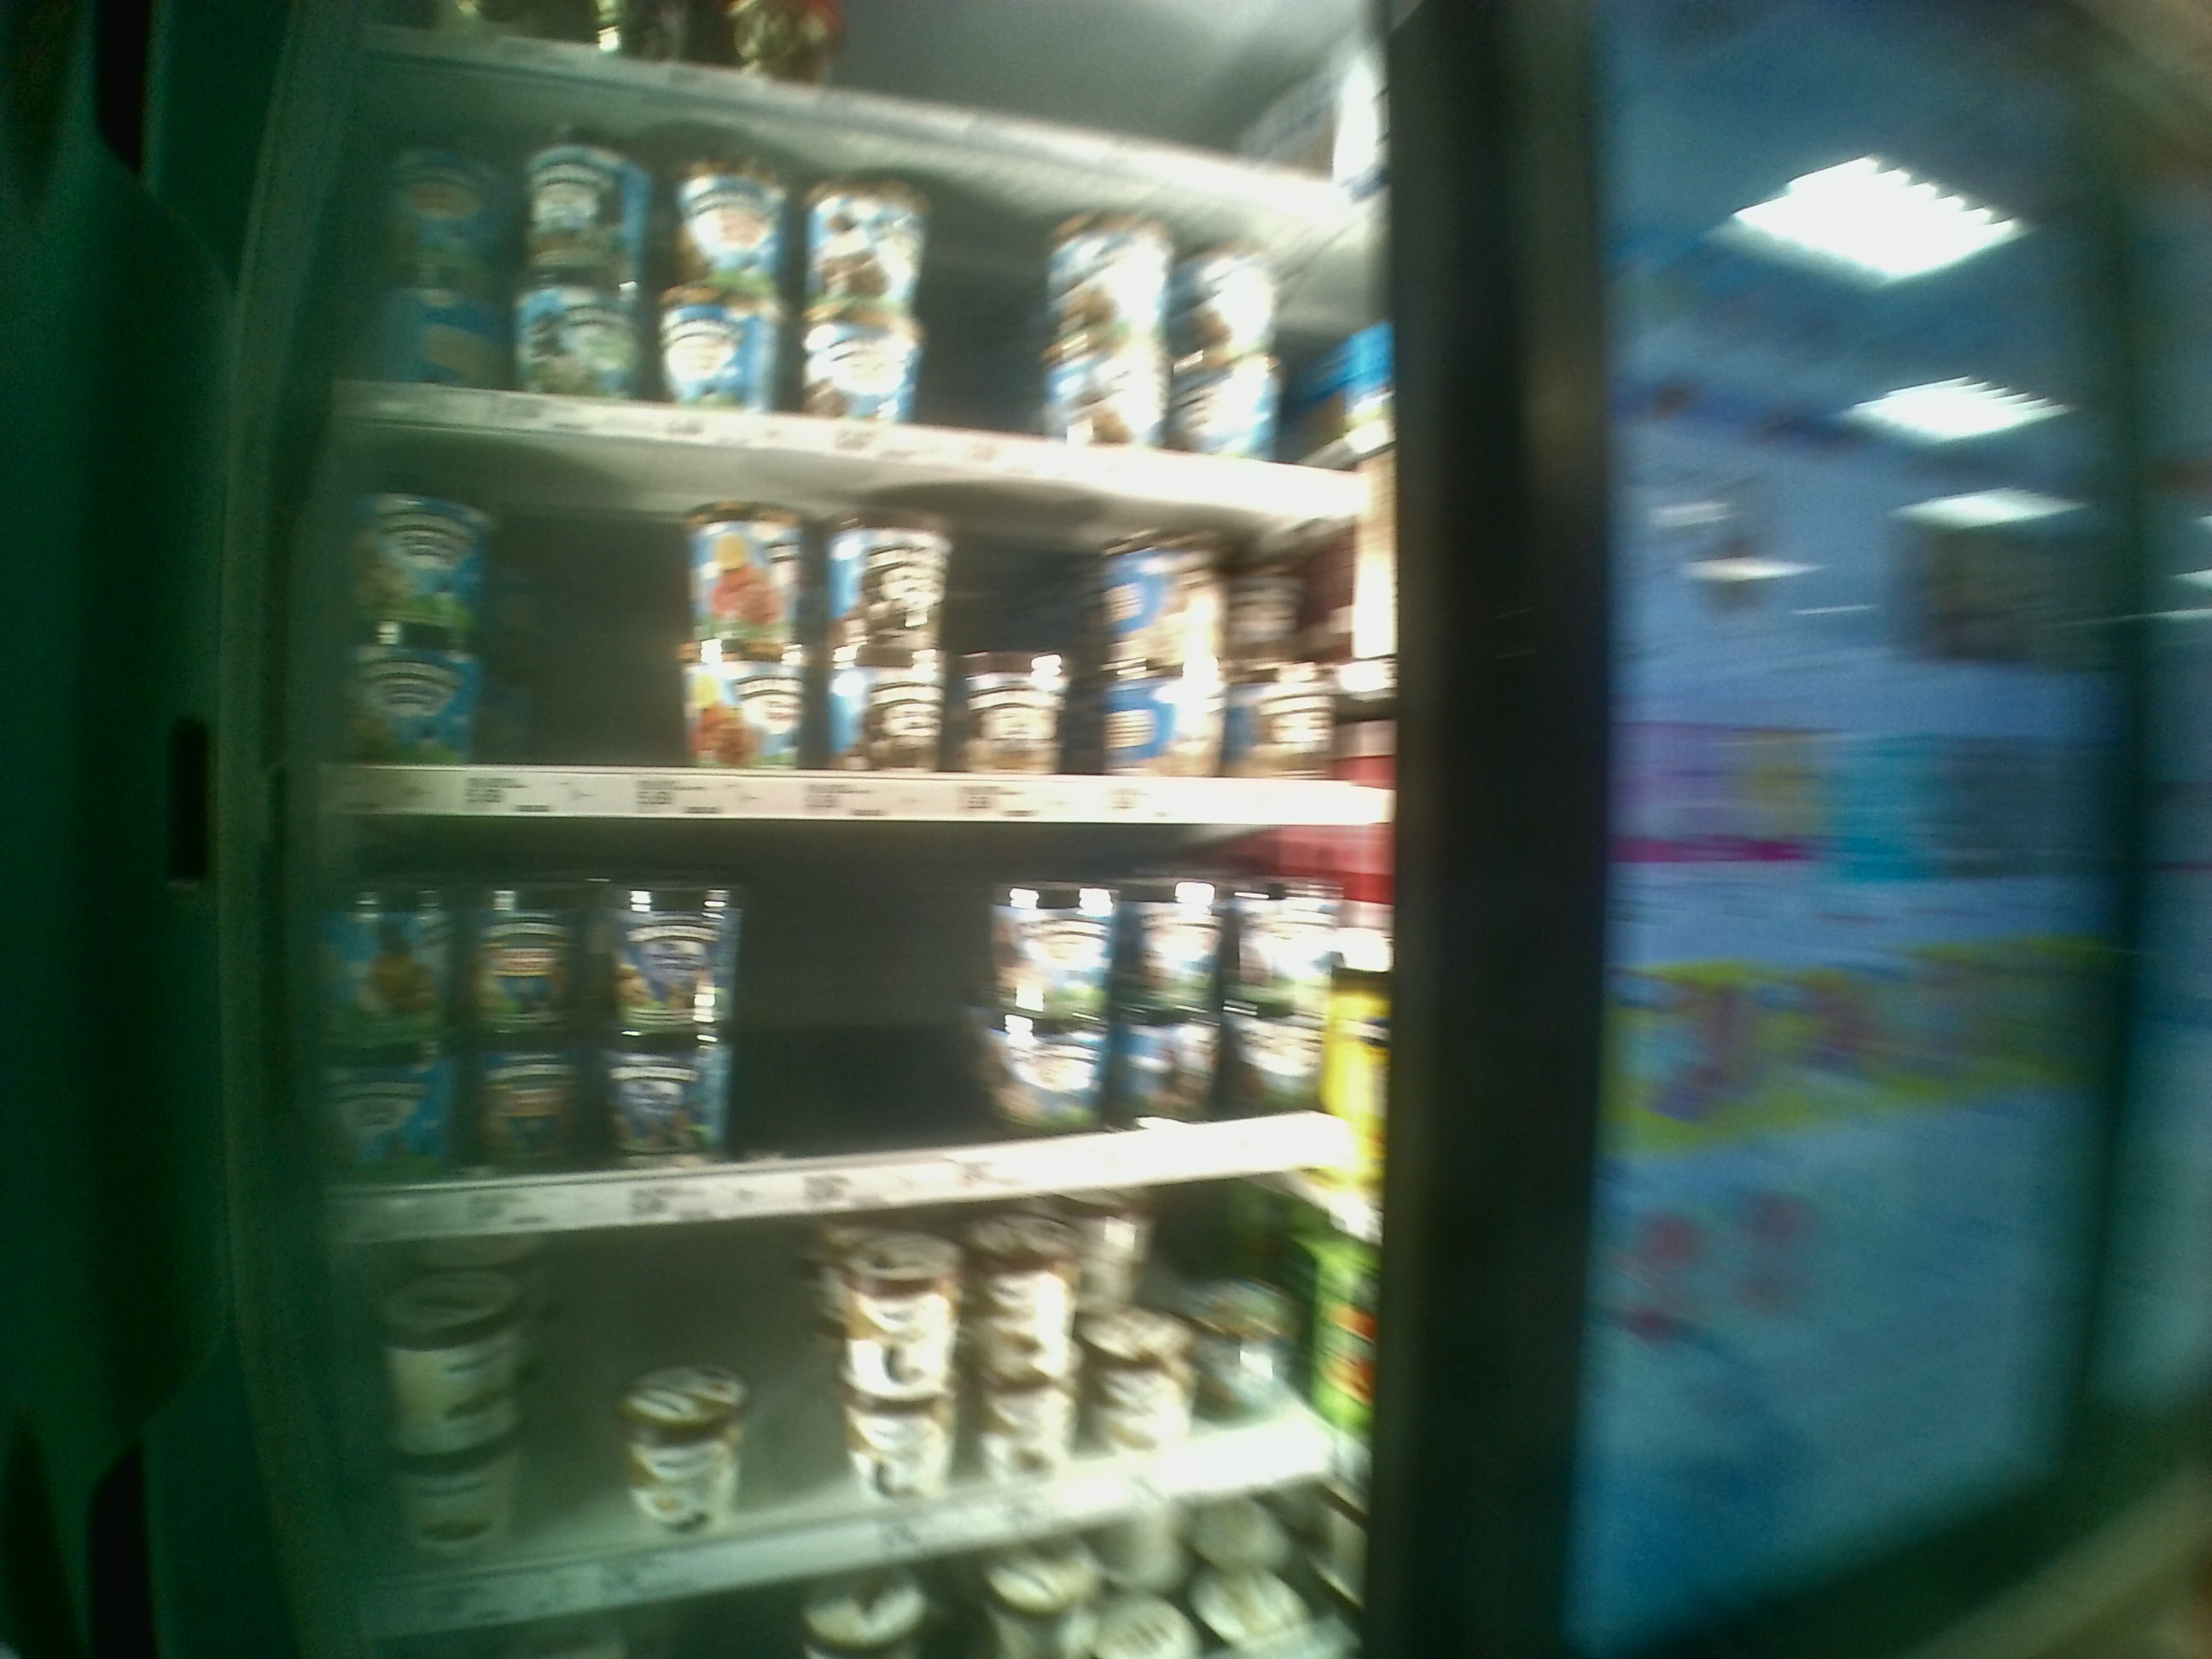shelf: (320, 823, 1383, 1239), (324, 413, 1390, 824)
